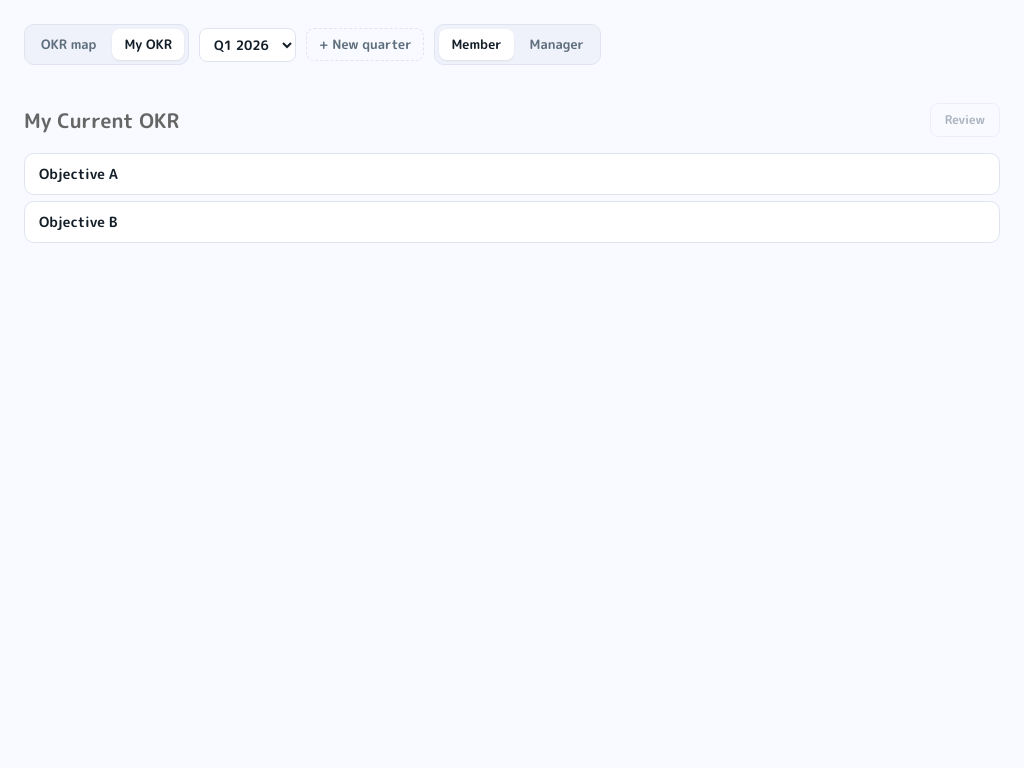
Test: OkrMapPage split view — OkrDialog remount on switching objectives › keeps the My Thread list visible (a genuine split, not a full overlay) while the detail panel is open
Click the button "Objective A" at [78, 174], box top-left (24, 153), bottom-right (1000, 195)
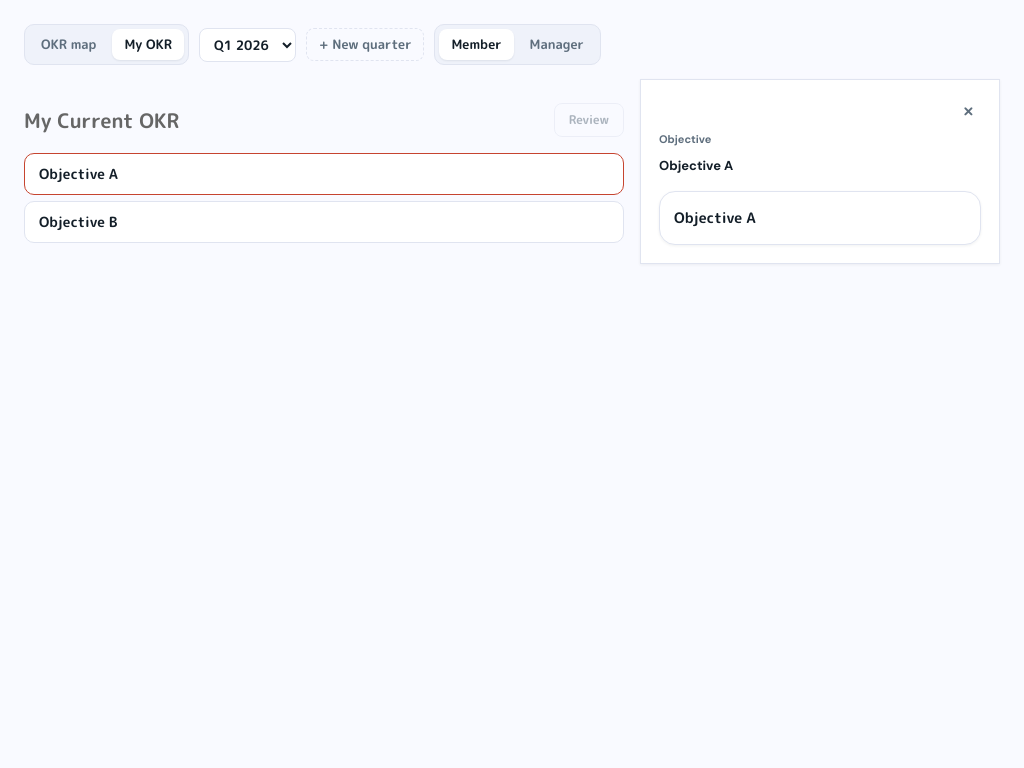
Expected: the button "Objective A" is shown, top-left (24, 153), bottom-right (624, 195)
Now the dialog is shown, box top-left (640, 79), bottom-right (1000, 264)
